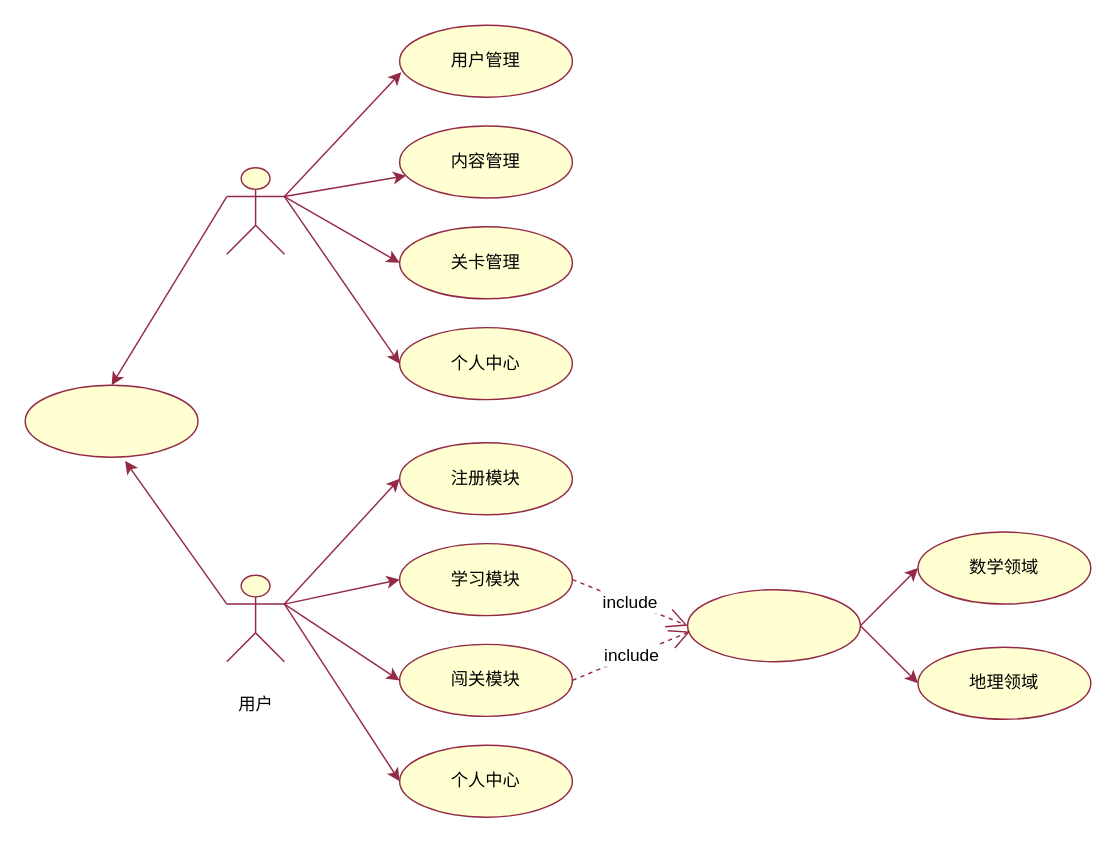
The diagram is 1116 pixels wide and 842 high, and some of its shapes have lost their labels. Here are the shapes that lost their labels. From the top down, the centre of each, then its label:
At (254,210): "管理员".
At (111,420): "登录模块".
At (773,625): "学习科目".
